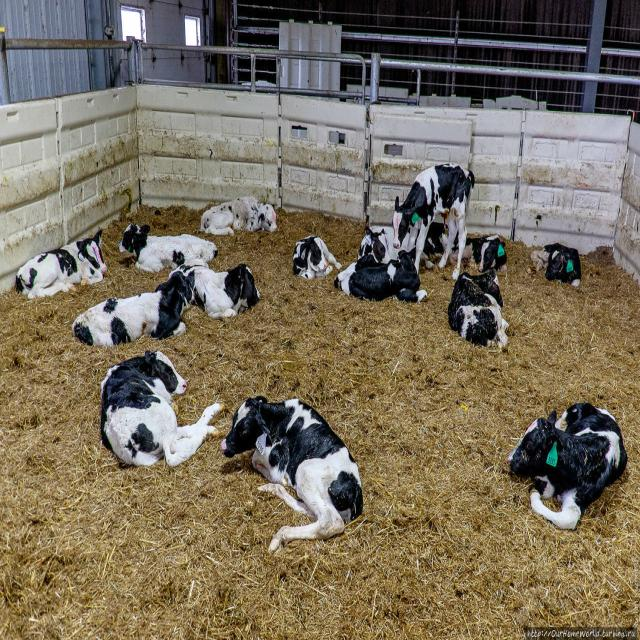cow: (221, 394, 363, 554), (508, 400, 628, 530), (100, 348, 224, 468), (392, 162, 474, 280), (72, 270, 196, 348), (13, 228, 107, 300), (357, 222, 473, 275), (168, 258, 260, 320), (447, 266, 509, 350), (118, 221, 218, 273), (333, 248, 427, 303), (200, 195, 278, 236), (292, 234, 342, 280), (530, 242, 581, 286)
